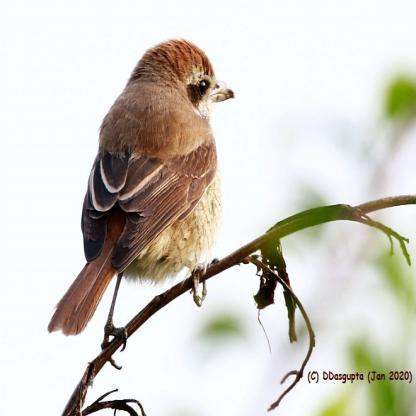Burung: (46, 38, 235, 360)
